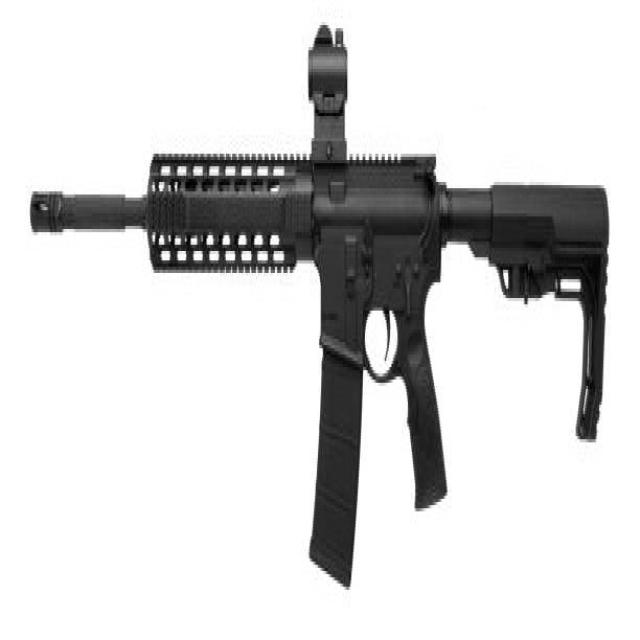rifle: (22, 21, 620, 610)
